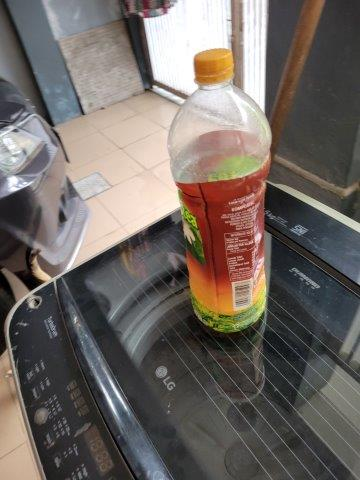botolplastik: (167, 49, 271, 332)
